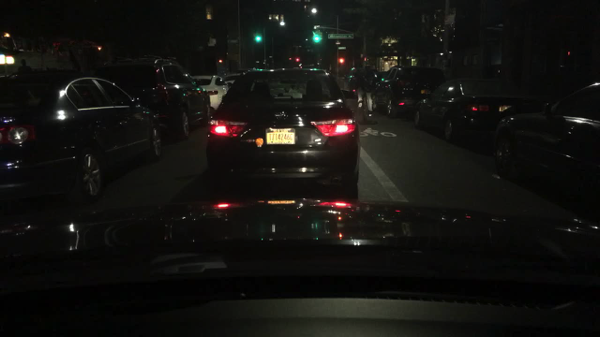bike: (359, 88, 378, 123)
car: (1, 74, 160, 208), (206, 68, 359, 193), (492, 82, 599, 180), (92, 58, 209, 140), (414, 78, 546, 142), (372, 65, 445, 118), (191, 76, 228, 112), (347, 68, 381, 97), (223, 74, 242, 88), (235, 68, 255, 74), (300, 65, 318, 69)
person: (17, 59, 31, 75)
rider: (348, 58, 380, 111)
traffic light: (254, 32, 261, 42), (338, 57, 345, 65), (318, 31, 323, 42), (313, 32, 318, 42), (294, 57, 300, 65), (363, 56, 367, 65), (218, 59, 222, 65)
traffic sign: (327, 32, 354, 39), (227, 37, 240, 45), (337, 45, 347, 51), (334, 42, 342, 45)
